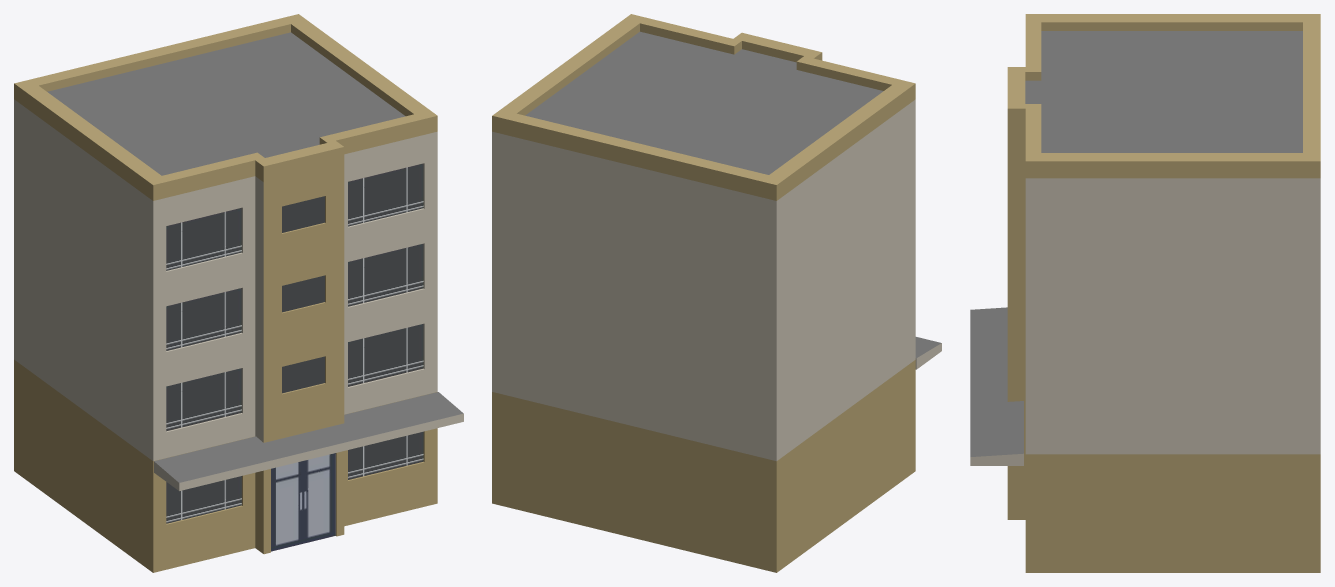
Rendered from Building Sky_small_color02.glb.
3 views of the same model, side by side, from view 1: azimuth 30°, elevation 25°; view 2: azimuth 150°, elevation 25°; view 3: azimuth 270°, elevation 25° (orthographic). The views are drawn at different scales.
Parts seen in each view (by area): view 1: Building Sky_small_color02; view 2: Building Sky_small_color02; view 3: Building Sky_small_color02.
Part boxes in pixels (bbox=[...]): Building Sky_small_color02: bbox=[14, 14, 463, 572]; Building Sky_small_color02: bbox=[492, 14, 941, 572]; Building Sky_small_color02: bbox=[970, 14, 1320, 572].
Bounding box in the file's own units: 13 × 16.93 × 13.07.
1 material, 1 textured.
